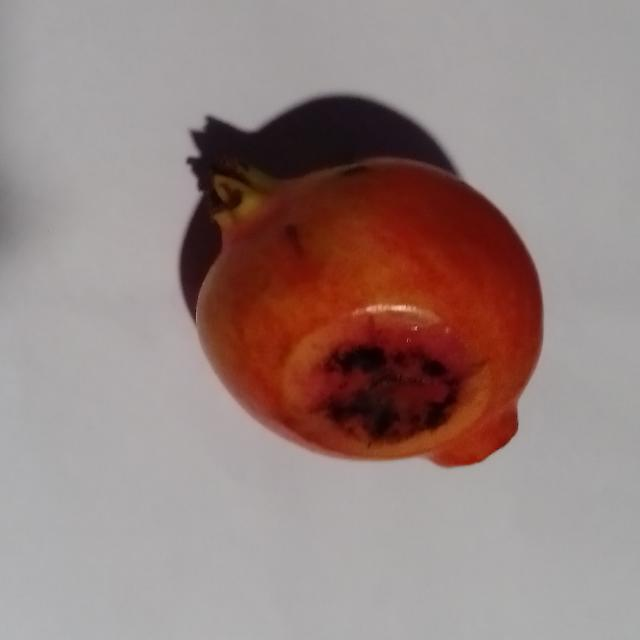Rotten: (189, 146, 549, 470)
